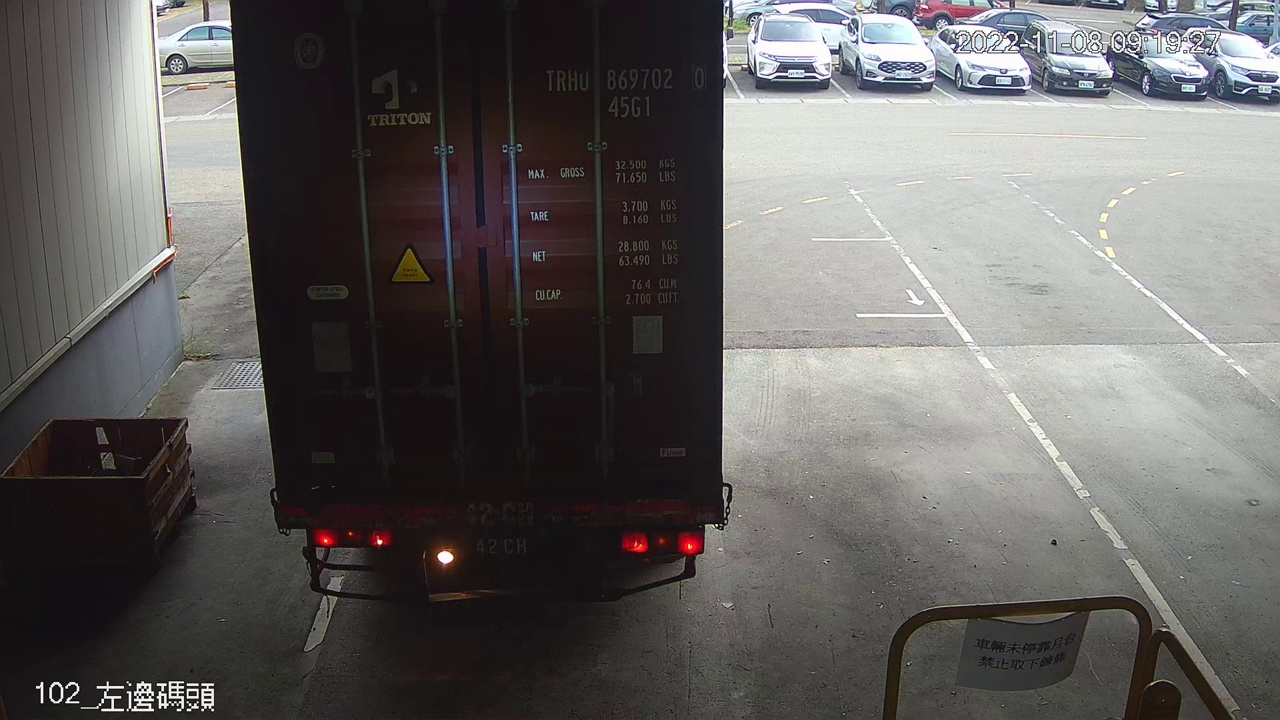container: (538, 60, 712, 126)
